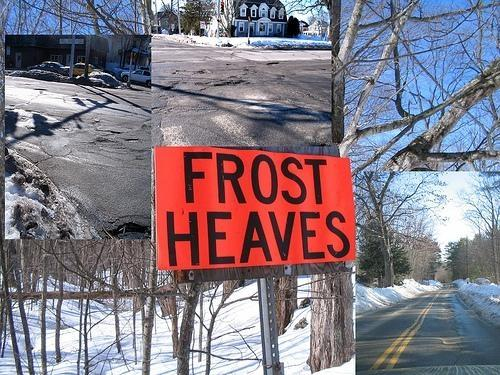car: (88, 70, 122, 88), (120, 68, 152, 87), (28, 60, 68, 74), (73, 63, 104, 76)
